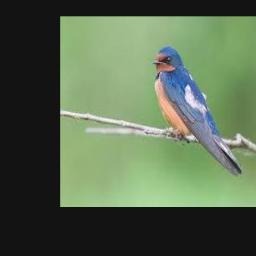Swallow: (152, 48, 243, 176)
